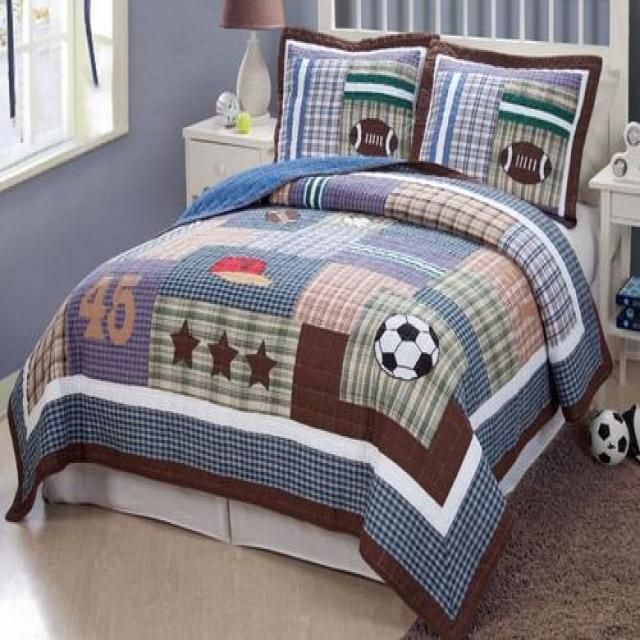bed: (43, 22, 628, 594)
